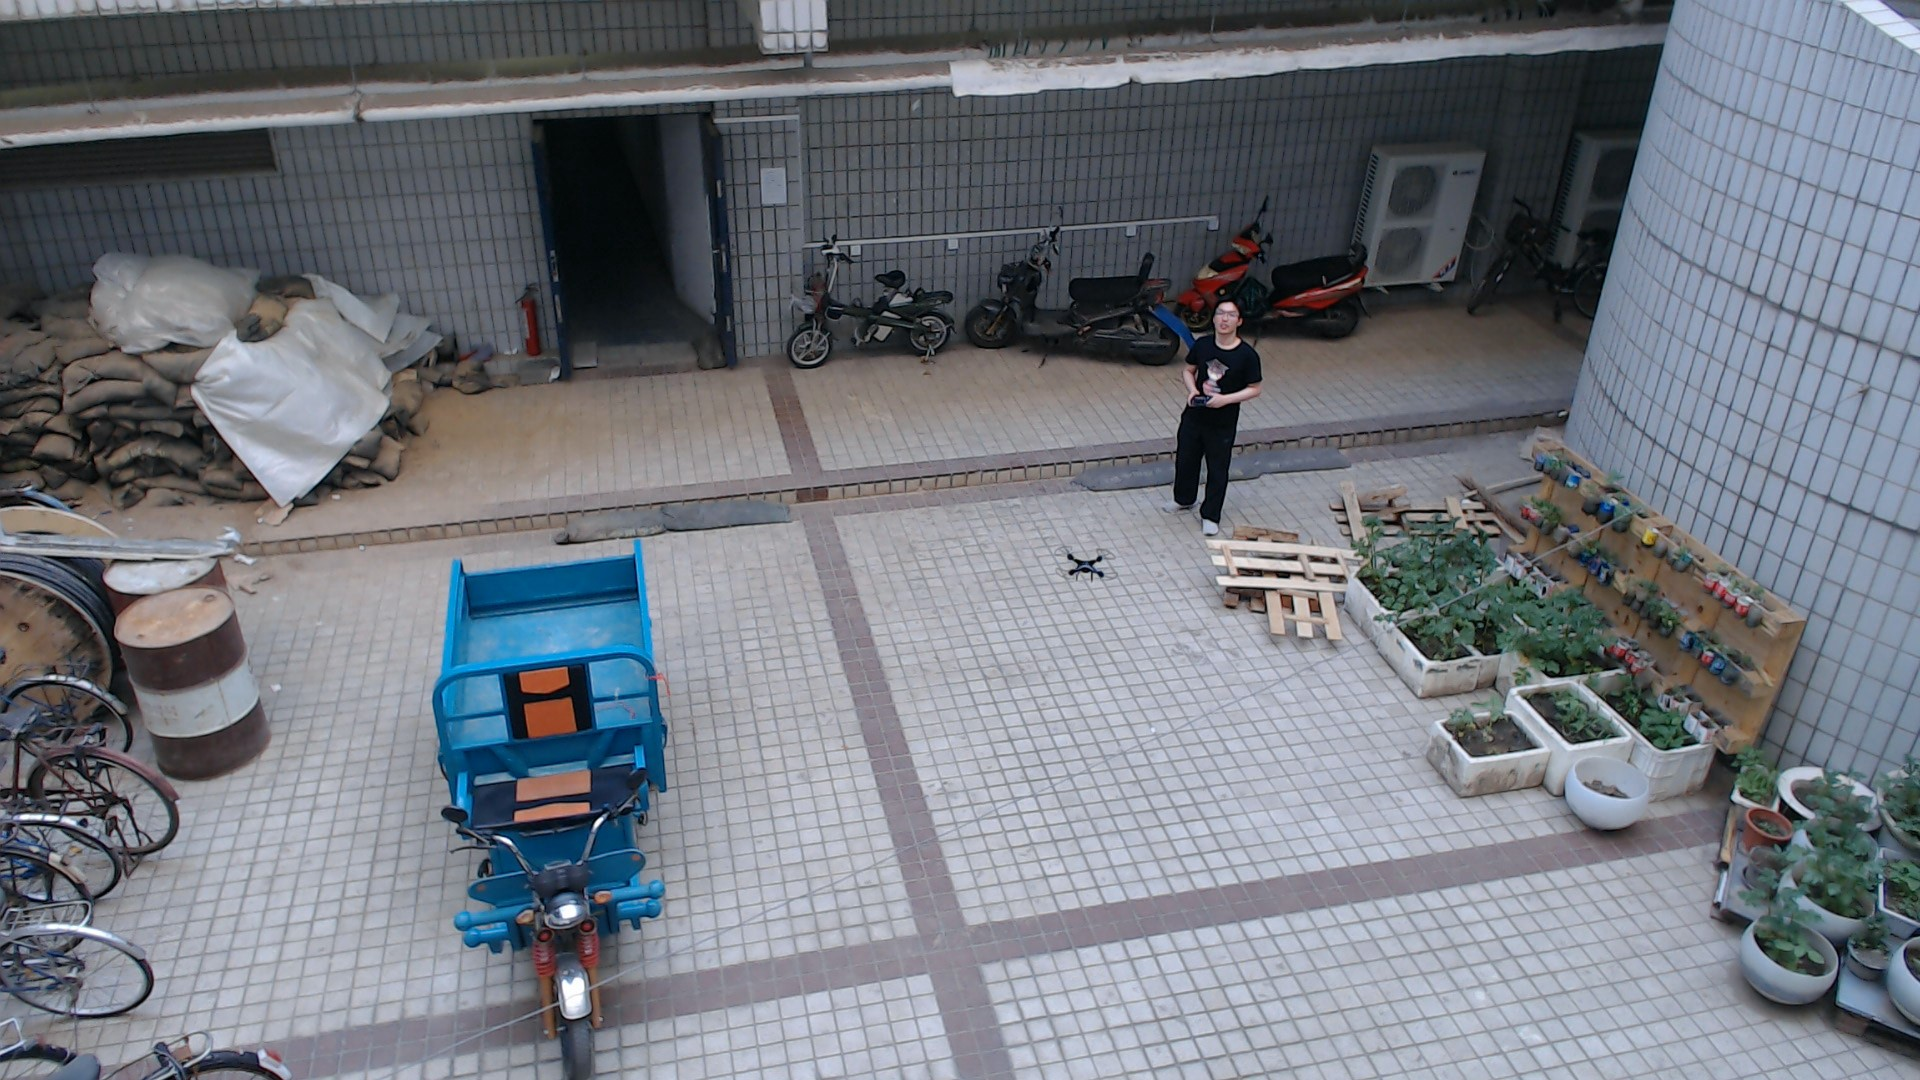drone: (1040, 526, 1136, 603)
person: (1153, 282, 1256, 539)
